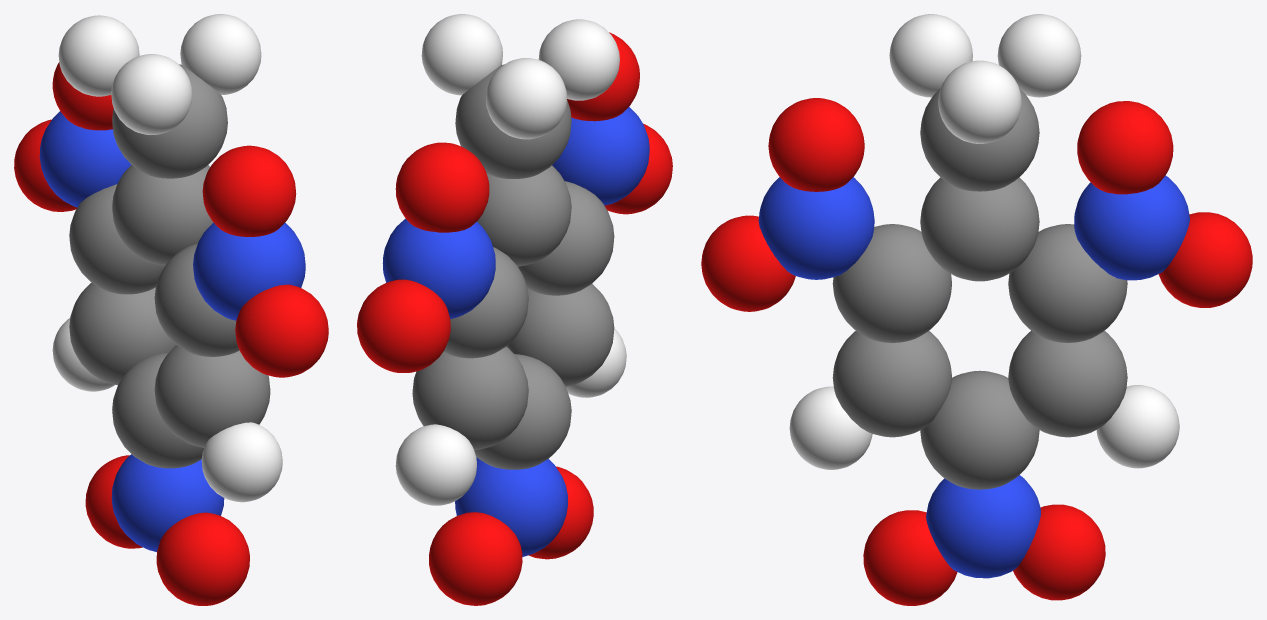
The model's file is uploads_files_3138446_tnt2.fbx.
3 views of the same model, side by side, from view 1: azimuth 30°, elevation 25°; view 2: azimuth 150°, elevation 25°; view 3: azimuth 270°, elevation 25° (orthographic). The views are drawn at different scales.
Visible parts, largest first — view 1: Molecule; view 2: Molecule; view 3: Molecule.
Part boxes in pixels (left/top/right/bottom): Molecule: left=14, top=14, right=328, bottom=605; Molecule: left=357, top=14, right=672, bottom=605; Molecule: left=701, top=14, right=1252, bottom=605.
Size of the model in its own units: 325 by 1040 by 924.
